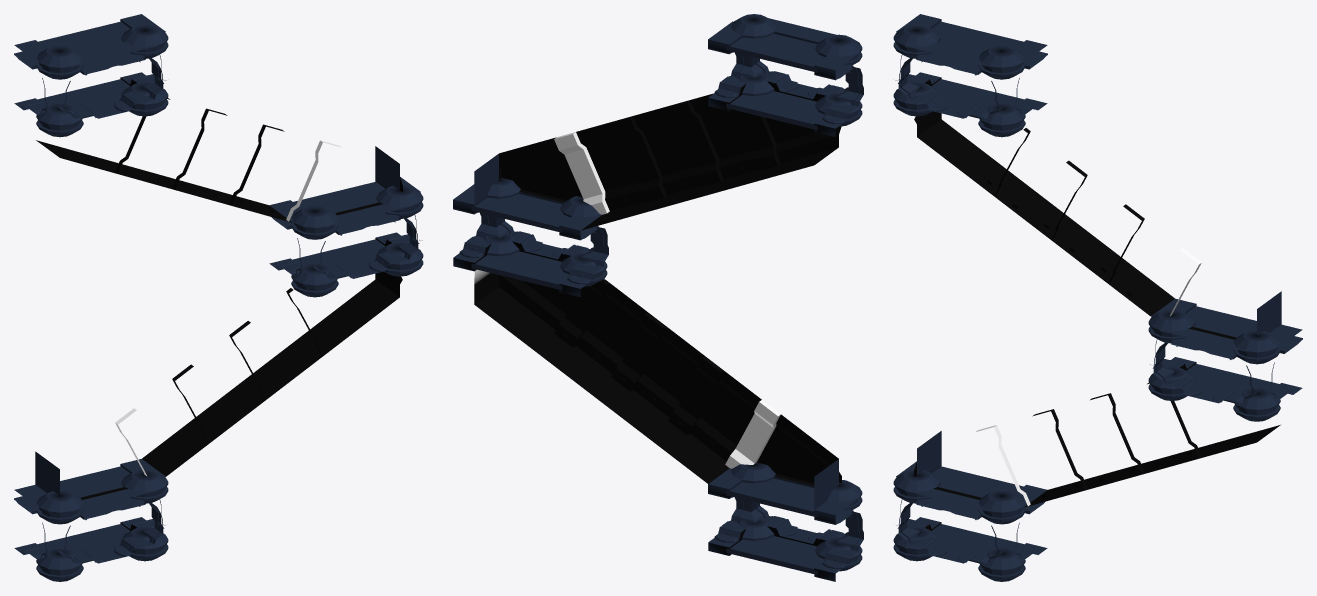
The model's file is Stage02PartsSetD_Half_v1.1.FBX.
3 views of the same model, side by side, from view 1: azimuth 30°, elevation 25°; view 2: azimuth 150°, elevation 25°; view 3: azimuth 330°, elevation 25° (orthographic).
Visible parts, largest first — view 1: Stage2PartsD2Left_ver1.0, Stage2PartsD2Right_ver1.0, CircleTop001, CircleTop, CircleTop002, PartD002, PartD003, PartD1, CircleUnder002, CircleUnder, CircleUnder001, ShutterFrameTop001 (+16 smaller); view 2: Stage2PartsD2Left_ver1.0, Stage2PartsD2Right_ver1.0, PartD1, PartD002, PartD003, ShutterFrameTop001, CircleTop001, CircleTop, ShutterFrameTop, CircleUnder001, CircleUnder002, CircleUnder (+17 smaller); view 3: Stage2PartsD2Right_ver1.0, Stage2PartsD2Left_ver1.0, CircleTop001, CircleTop002, CircleTop, PartD002, PartD1, PartD003, CircleUnder002, CircleUnder, CircleUnder001, ShutterFrameTop001 (+16 smaller).
Part boxes in pixels (box(x1,y1,x2,y2)): Stage2PartsD2Left_ver1.0: box(35, 271, 402, 499); Stage2PartsD2Right_ver1.0: box(36, 98, 402, 222); CircleTop001: box(36, 24, 168, 79); CircleTop: box(36, 469, 168, 524); CircleTop002: box(291, 185, 423, 239); PartD002: box(14, 54, 166, 118); PartD003: box(269, 215, 422, 278); PartD1: box(14, 499, 165, 563); CircleUnder002: box(291, 242, 423, 297); CircleUnder: box(36, 527, 168, 581); CircleUnder001: box(36, 82, 168, 137); ShutterFrameTop001: box(14, 14, 165, 66); Stage2PartsD2Left_ver1.0: box(474, 269, 841, 509); Stage2PartsD2Right_ver1.0: box(474, 93, 841, 230); PartD1: box(708, 497, 863, 573); PartD002: box(708, 52, 863, 128); PartD003: box(453, 213, 608, 288); ShutterFrameTop001: box(708, 18, 859, 78); CircleTop001: box(730, 14, 862, 65); CircleTop: box(730, 463, 862, 510); ShutterFrameTop: box(708, 468, 859, 523); CircleUnder001: box(738, 73, 862, 126); CircleUnder002: box(483, 233, 607, 286); CircleUnder: box(738, 518, 862, 571); Stage2PartsD2Right_ver1.0: box(914, 111, 1281, 339); Stage2PartsD2Left_ver1.0: box(914, 382, 1280, 507); CircleTop001: box(893, 24, 1025, 79); CircleTop002: box(1148, 309, 1280, 364); CircleTop: box(893, 469, 1025, 524); PartD002: box(895, 54, 1047, 118); PartD1: box(896, 499, 1047, 563); PartD003: box(1150, 339, 1302, 403); CircleUnder002: box(1148, 366, 1280, 421); CircleUnder: box(893, 527, 1025, 581); CircleUnder001: box(893, 82, 1025, 137); ShutterFrameTop001: box(896, 14, 1047, 66).
Size of the model in its own units: 2481 by 3253 by 416.
